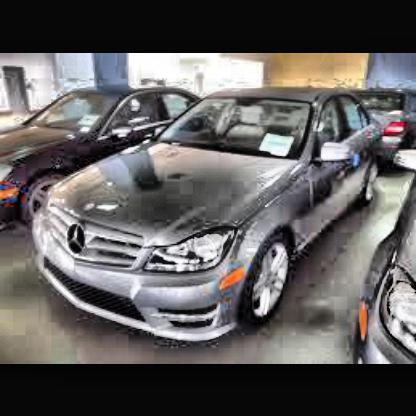Mercedes-Benz C-Class Sedan 2012: (32, 86, 393, 346)
